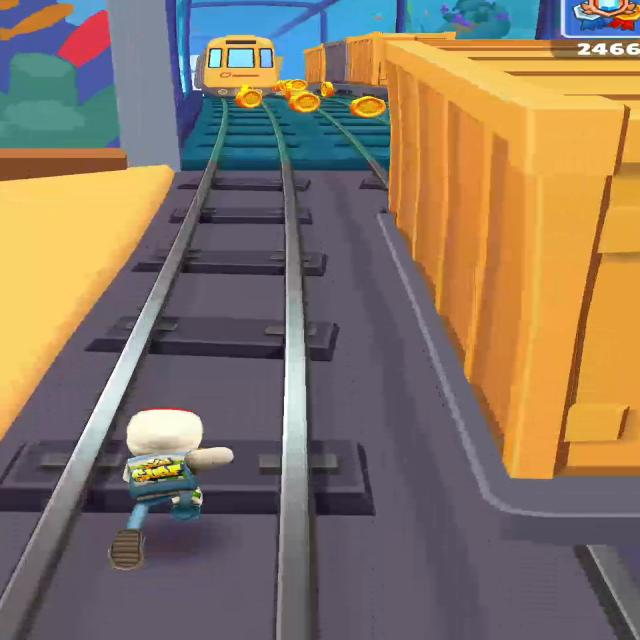train: (382, 36, 639, 504), (304, 32, 455, 88), (194, 35, 280, 97)
